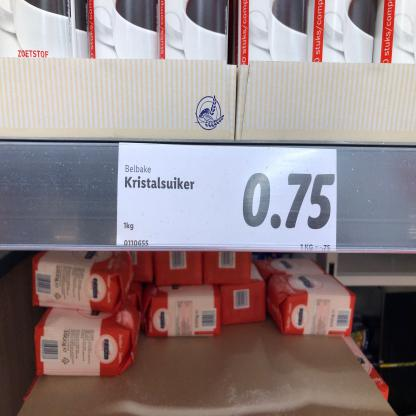prtg: (117, 144, 338, 254)
